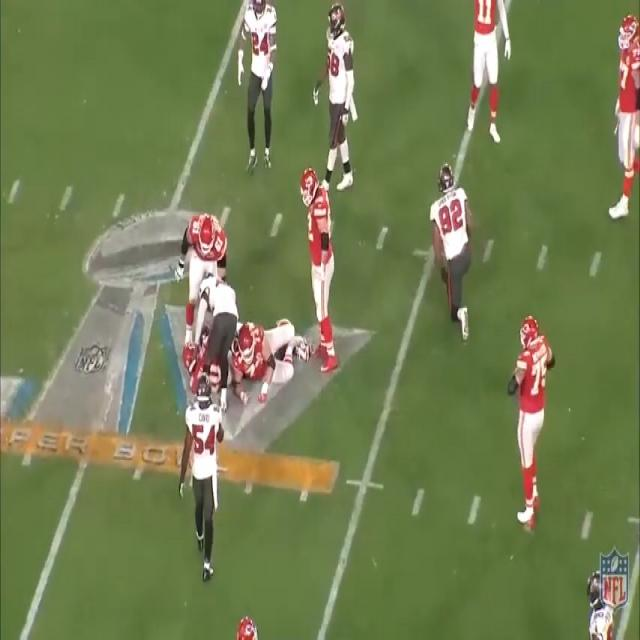players: (502, 314, 557, 532), (295, 168, 346, 378), (174, 377, 221, 583), (310, 2, 358, 196), (432, 165, 480, 348), (234, 0, 278, 179), (459, 0, 510, 146), (608, 12, 640, 222), (177, 214, 228, 342), (233, 323, 311, 394), (198, 273, 230, 412), (183, 343, 235, 399)
